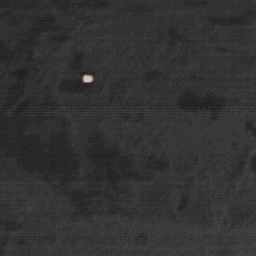Target: (80, 73, 95, 84)
